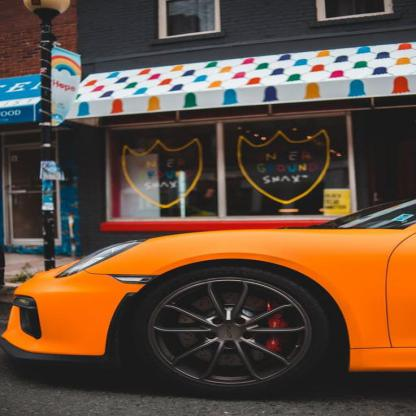Tire: (128, 267, 334, 400)
